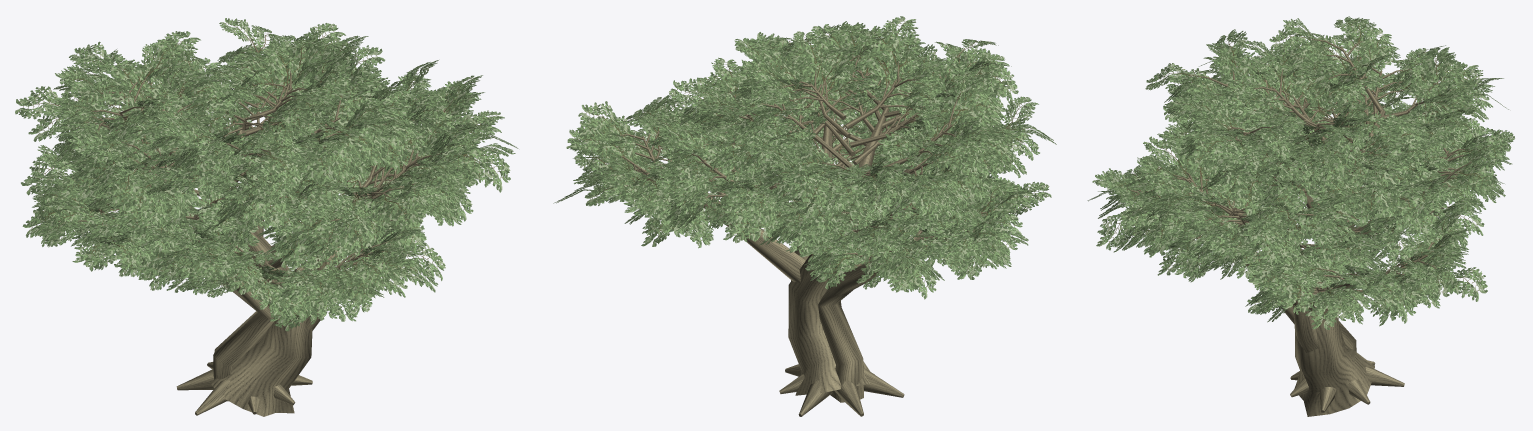
File: olive_near.glb
3 renders of one model, left to right at view 1: azimuth 30°, elevation 25°; view 2: azimuth 150°, elevation 25°; view 3: azimuth 270°, elevation 25°, orthographic. The views are drawn at different scales.
Visible parts, largest first — view 1: olive_near; view 2: olive_near; view 3: olive_near.
Boxes of the visible parts, left/top/right/bottom form: olive_near: left=15, top=18, right=518, bottom=416; olive_near: left=553, top=16, right=1056, bottom=416; olive_near: left=1087, top=16, right=1514, bottom=416.
Bounding box in the file's own units: 6.82 × 5.06 × 6.
2 materials, 2 textured.
